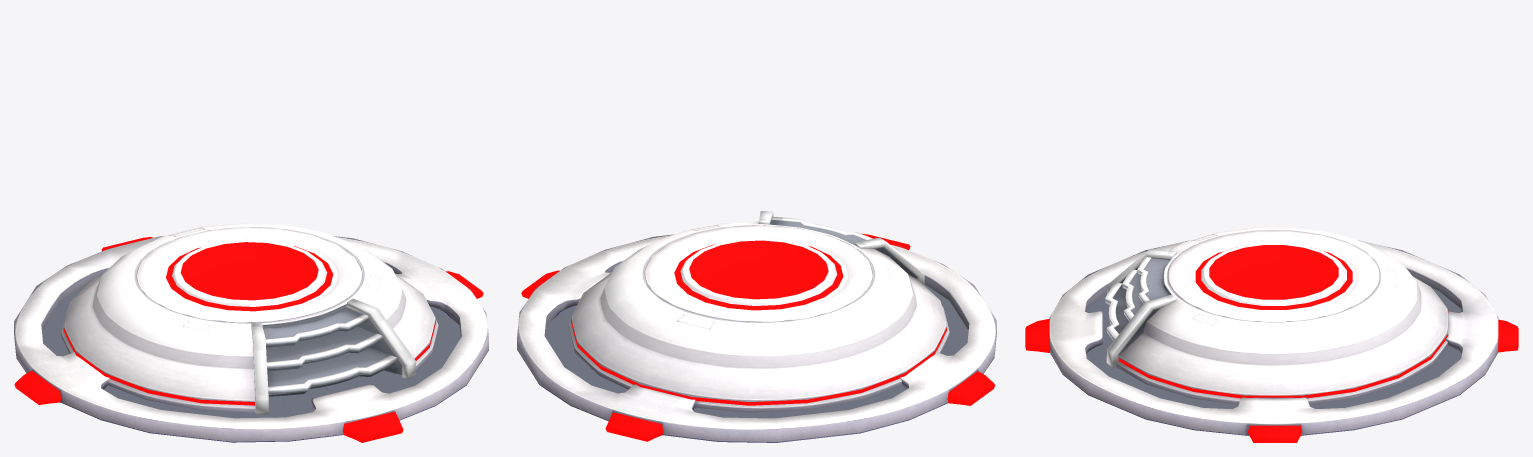
The model's file is obj_teleport03.gltf.
The picture shows the model from 3 angles, left to right: view 1: azimuth 30°, elevation 25°; view 2: azimuth 150°, elevation 25°; view 3: azimuth 270°, elevation 25°; orthographic projection. The views are drawn at different scales.
Parts seen in each view (by area): view 1: obj_teleport03; view 2: obj_teleport03; view 3: obj_teleport03.
Boxes of the visible parts, box(x1,y1,x2,y2) form: obj_teleport03: box(14, 223, 488, 442); obj_teleport03: box(517, 211, 996, 442); obj_teleport03: box(1025, 227, 1518, 442).
Size of what is drawn, in the model's own units: 2.55 by 1.77 by 2.58.
Materials: 2 (1 with a texture image).
